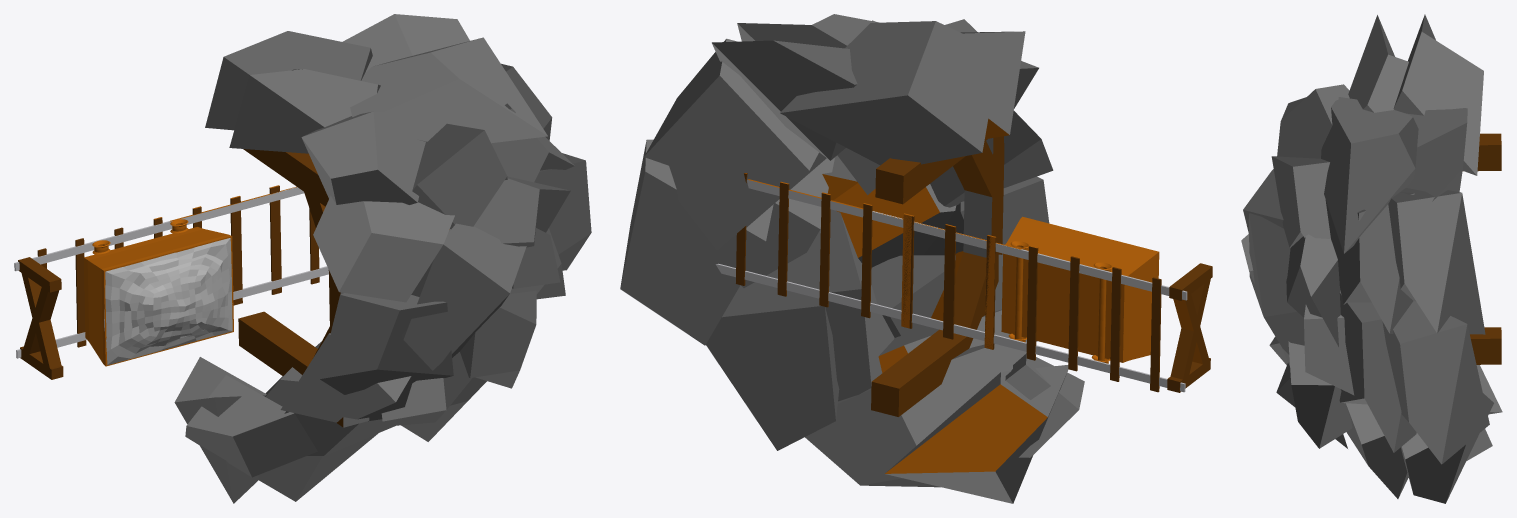
Rendered from Шахта1Origin.fbx.
3 views of the same model, side by side, from view 1: azimuth 30°, elevation 25°; view 2: azimuth 150°, elevation 25°; view 3: azimuth 270°, elevation 25° (orthographic). The views are drawn at different scales.
Parts seen in each view (by area): view 1: Шахта1; view 2: Шахта1; view 3: Шахта1.
Part boxes in pixels (<box>): Шахта1: <box>14,14,591,503</box>; Шахта1: <box>620,14,1212,503</box>; Шахта1: <box>1241,14,1502,503</box>.
Size of the model in its own units: 2.49 by 1.96 by 1.08.
